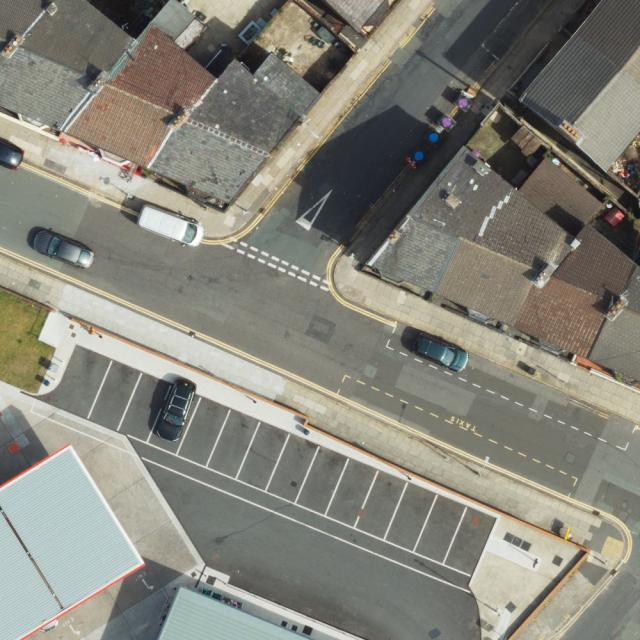roof: (365, 147, 640, 382), (0, 0, 323, 199), (1, 445, 141, 640), (522, 0, 640, 172), (157, 589, 309, 640), (325, 0, 390, 34)
